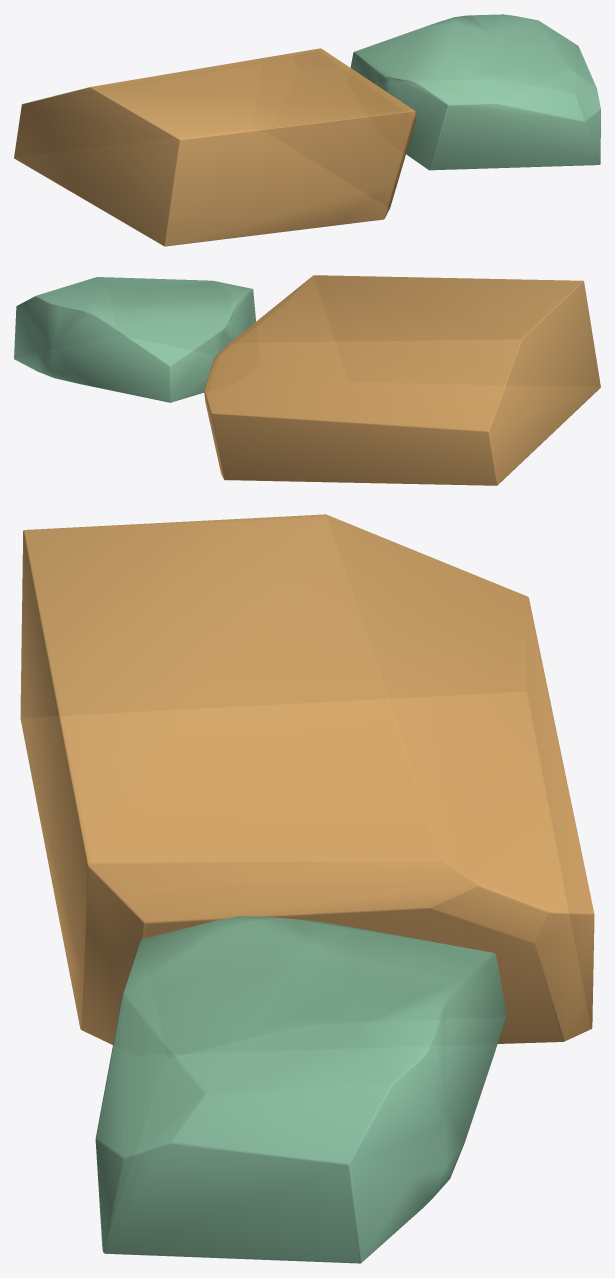
File: shore_sea_glass_a.glb
3 renders of one model, top to bottom at view 1: azimuth 30°, elevation 25°; view 2: azimuth 150°, elevation 25°; view 3: azimuth 270°, elevation 25°, orthographic. The views are drawn at different scales.
Parts seen in each view (by area): view 1: shore_sea_glass_a; view 2: shore_sea_glass_a; view 3: shore_sea_glass_a.
Part boxes in pixels (x1,y1,x2,y2): shore_sea_glass_a: (14,14,600,246); shore_sea_glass_a: (14,275,600,485); shore_sea_glass_a: (20,514,594,1263).
Bounding box in the file's own units: 2.41 × 0.6548 × 1.15.
